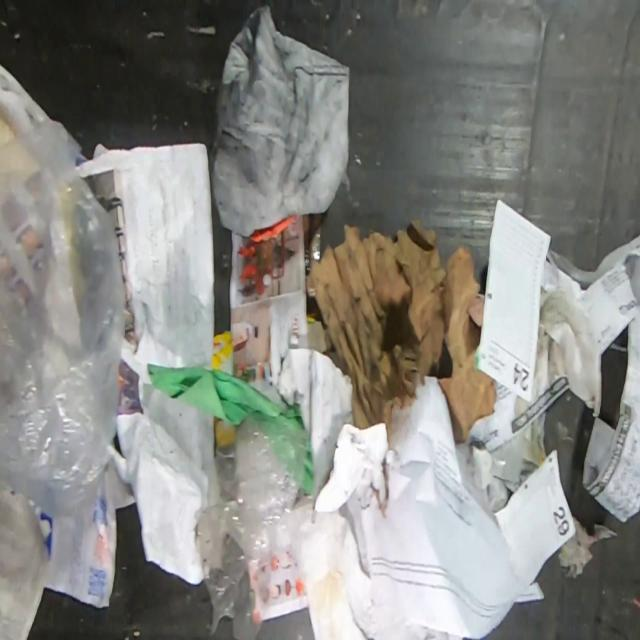soft_plastic: (0, 122, 126, 516), (191, 412, 309, 639)
